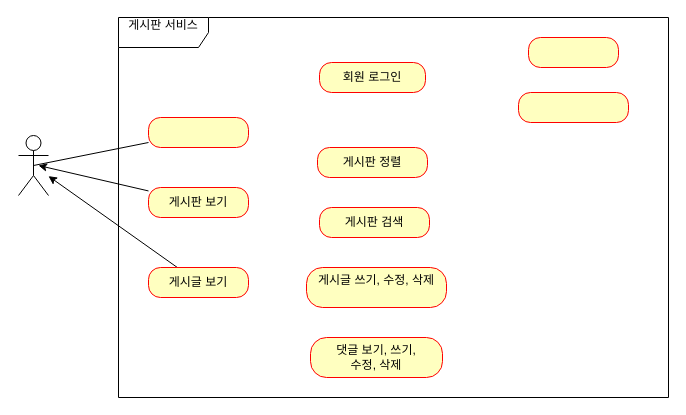
Image size: 686x415. Some labels were removed from this diagram. Here are the shapes that lost their labels. From the top down, the centre of each, then its label:
At [573,52]: "인증".
At [573,107]: "로그인 실패".
At [198,132]: "회원가입".
At [33,165]: "이용자".
